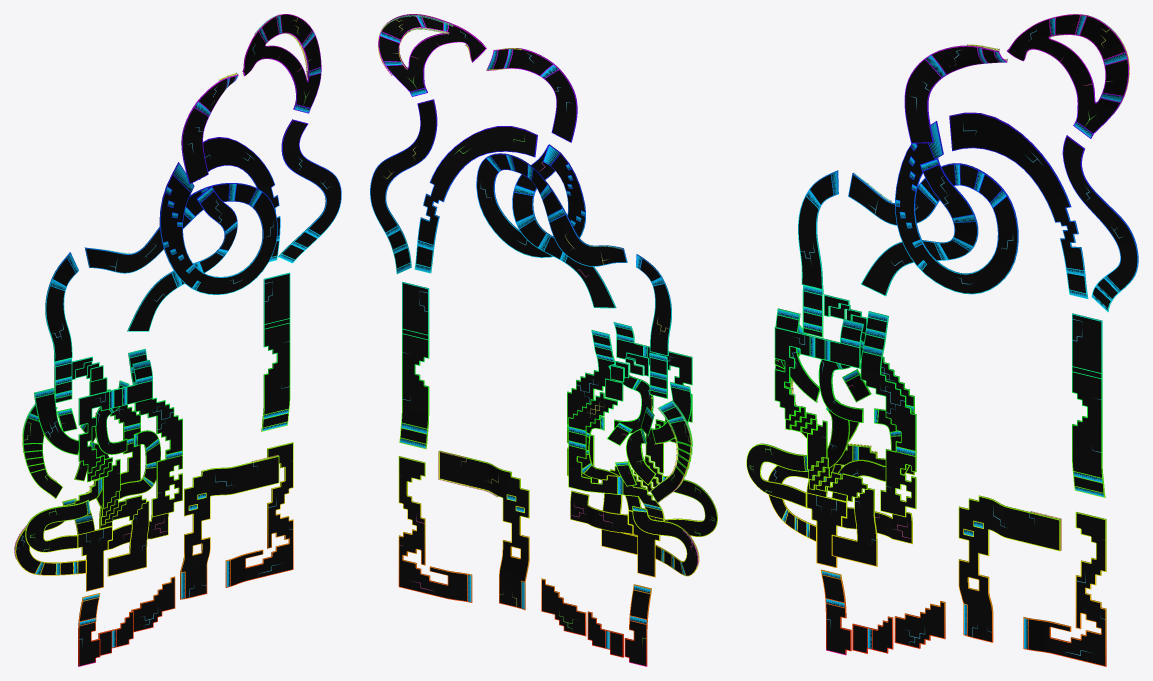
3 renders of one model, left to right at view 1: azimuth 30°, elevation 25°; view 2: azimuth 150°, elevation 25°; view 3: azimuth 330°, elevation 25°, orthographic. The views are drawn at different scales.
Visible parts, largest first — view 1: ndcm_road, ndcm_line, ndcm_pad; view 2: ndcm_road, ndcm_line, ndcm_pad, ndcm_wall2; view 3: ndcm_road, ndcm_line, ndcm_pad.
Part boxes in pixels (left/top/right/bottom): ndcm_road: left=16, top=14, right=340, bottom=665; ndcm_line: left=15, top=14, right=341, bottom=666; ndcm_pad: left=28, top=15, right=320, bottom=647; ndcm_road: left=370, top=15, right=716, bottom=665; ndcm_line: left=370, top=14, right=717, bottom=666; ndcm_pad: left=380, top=15, right=689, bottom=648; ndcm_wall2: left=378, top=15, right=698, bottom=565; ndcm_road: left=747, top=15, right=1137, bottom=665; ndcm_line: left=746, top=14, right=1138, bottom=666; ndcm_pad: left=777, top=15, right=1126, bottom=648.
Size of the model in its own units: 9908484 by 1.71e+07 by 2035343.
5 materials, 4 textured.
